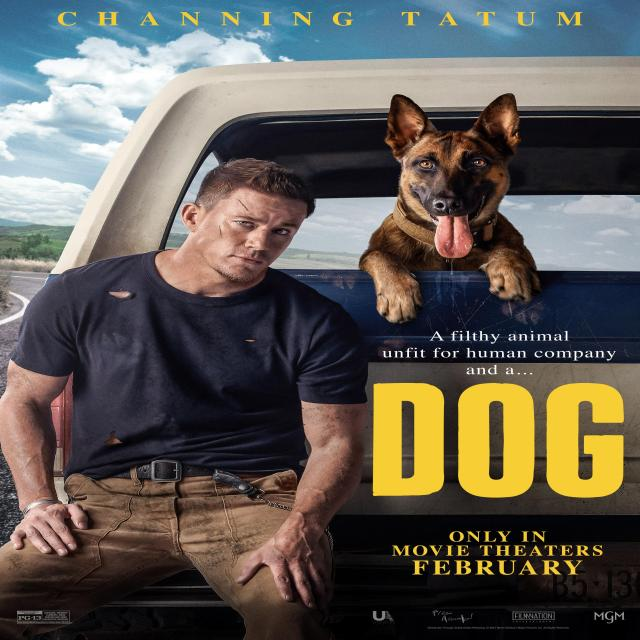Dog: (364, 85, 536, 265)
